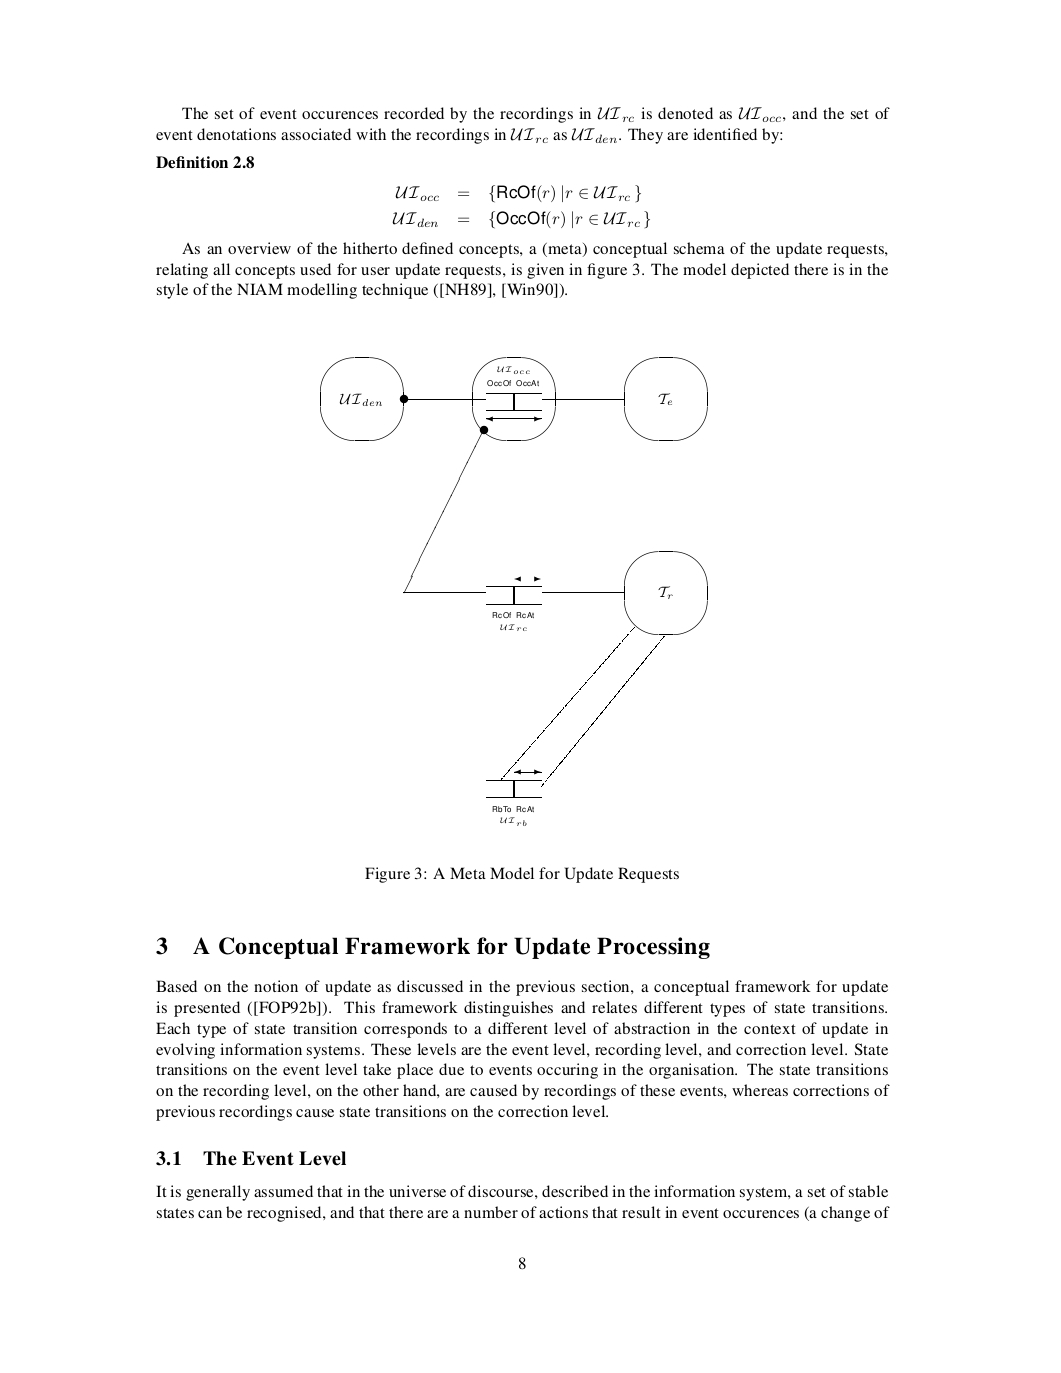figure: (320, 357, 707, 825)
formula: (392, 210, 649, 228), (395, 184, 640, 203)
